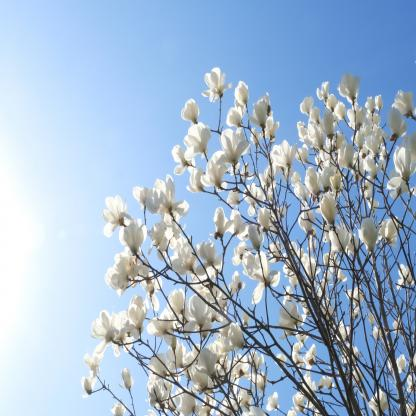Mokuren: (80, 65, 416, 416)
